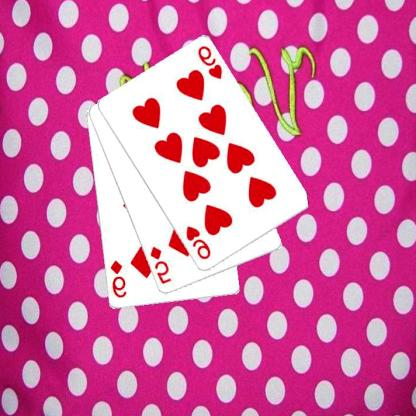5D: (149, 244, 174, 286)
6D: (109, 258, 129, 299)
9H: (184, 224, 214, 261), (197, 43, 225, 81)
